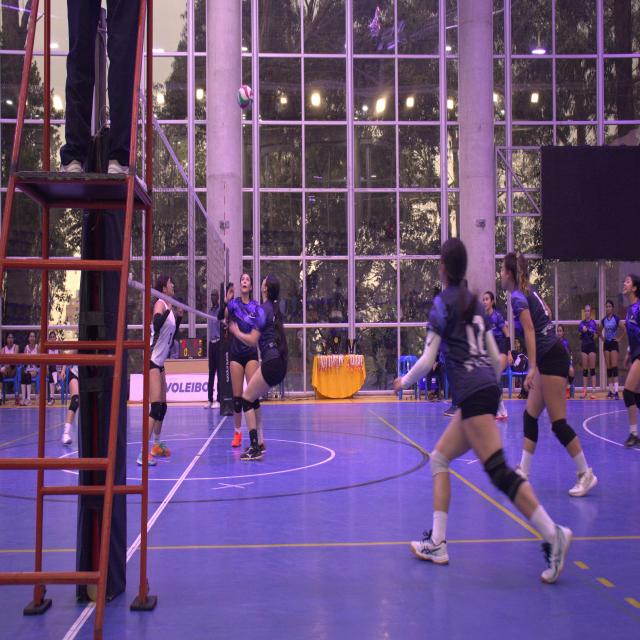volleyball: (238, 86, 253, 110)
